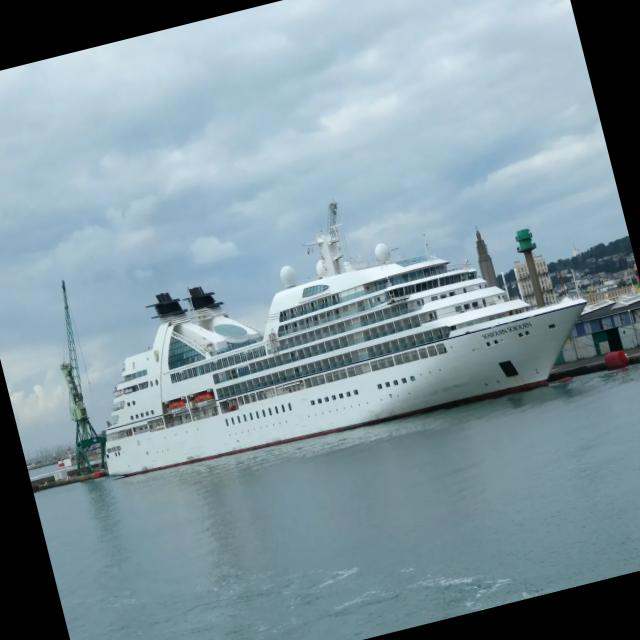Cruise: (105, 204, 585, 475)
